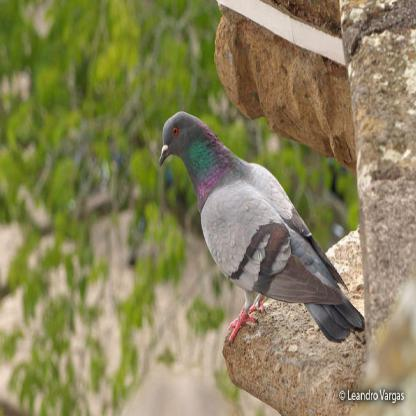Rock Pigeon: (159, 110, 355, 341)
